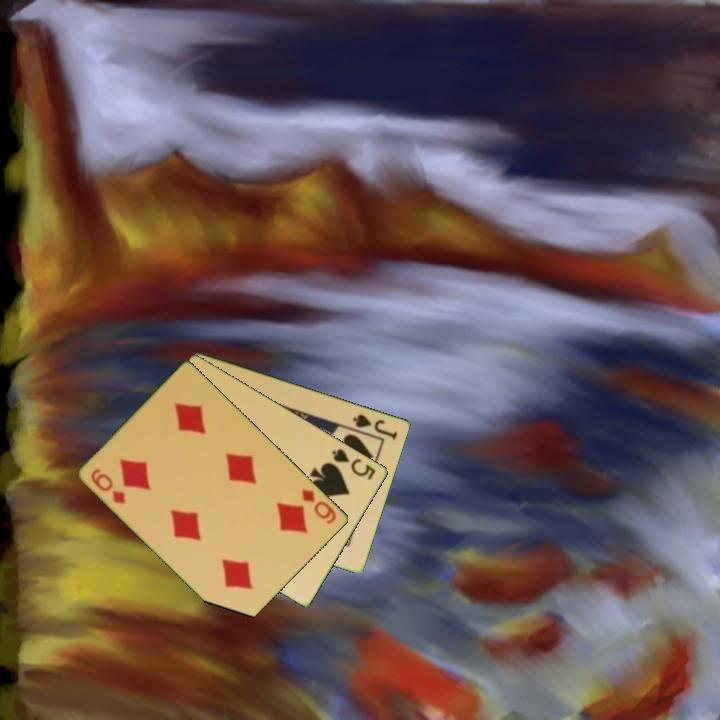5s: (328, 445, 379, 483)
6d: (298, 486, 340, 527), (88, 465, 129, 507)
Js: (349, 410, 401, 443)
